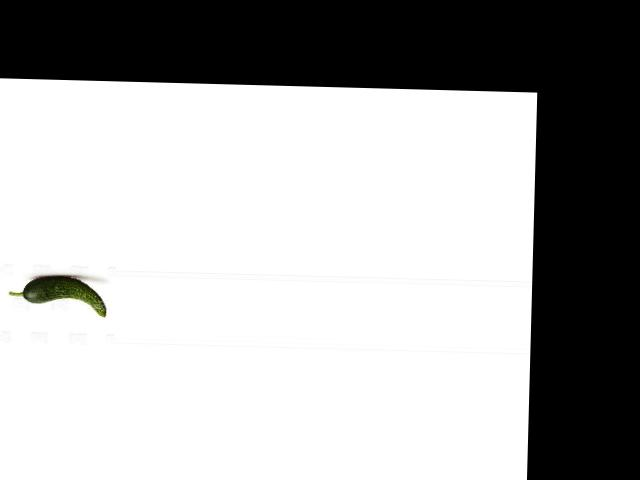cucumber: (8, 275, 106, 316)
